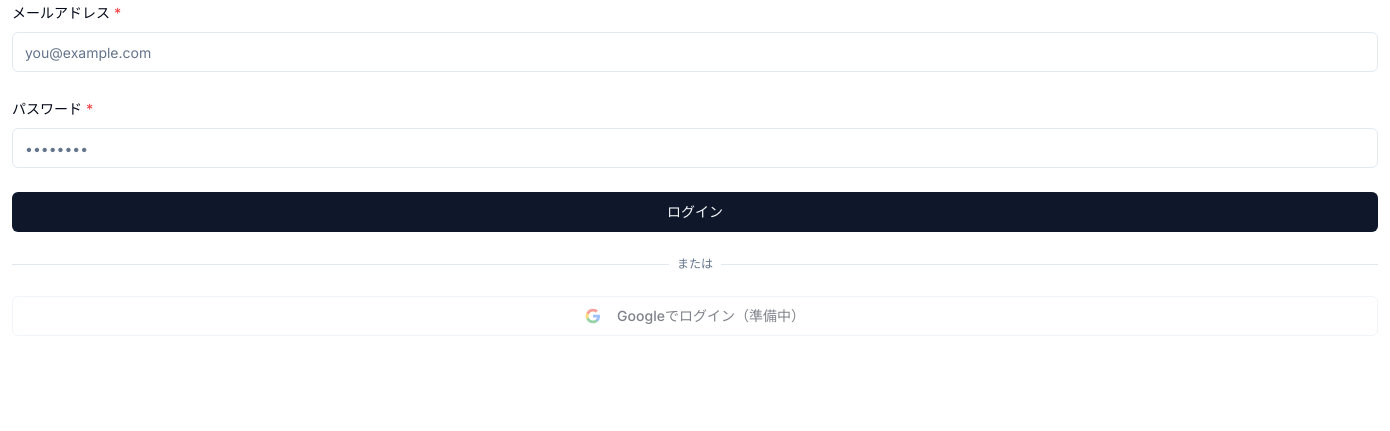
Test: LoginForm › フォーム送信 › ネットワークエラー: ネットワークエラー時に汎用エラーメッセージが表示されること
This screenshot has width=1390, height=431.
Type "test@example.com" into the field labelled "メールアドレス*". click: (695, 52)
box: x1=12 y1=32 x2=1378 y2=72
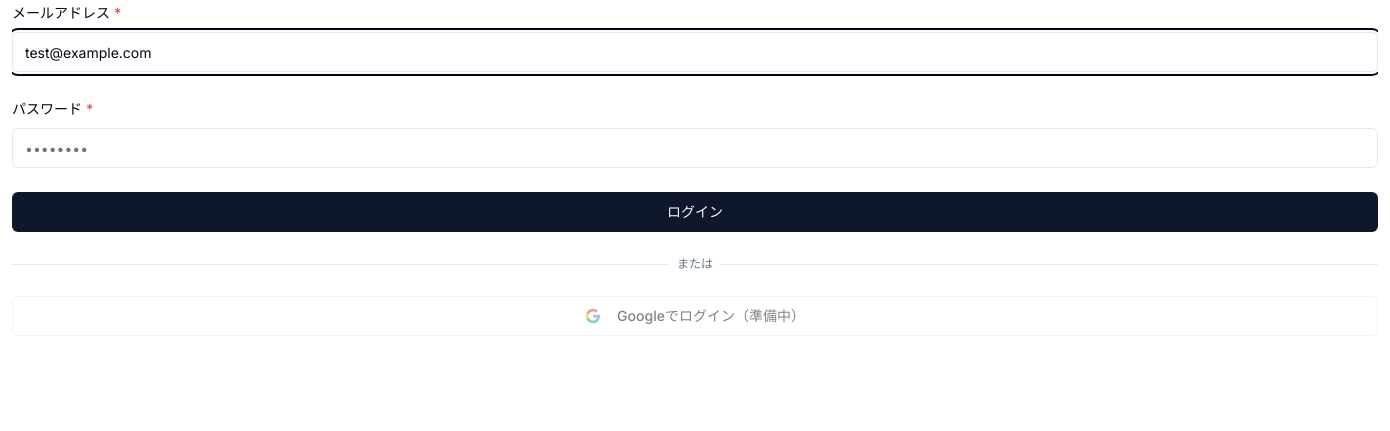
Type "Password123" into the password field labelled "パスワード*". click: (695, 148)
box: x1=12 y1=128 x2=1378 y2=168
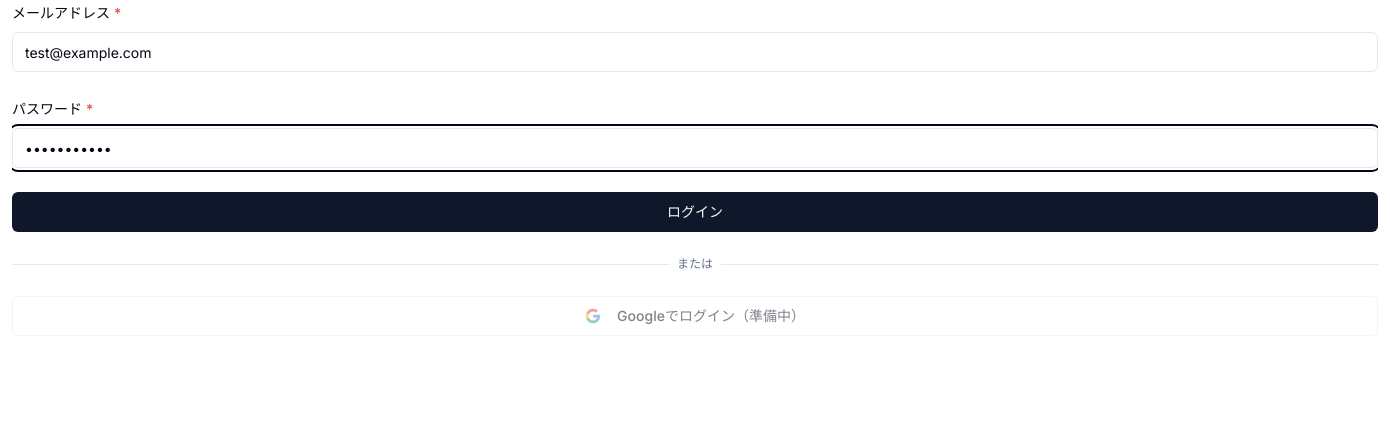
Click the button "ログイン". click: (695, 212)
box: x1=12 y1=192 x2=1378 y2=232
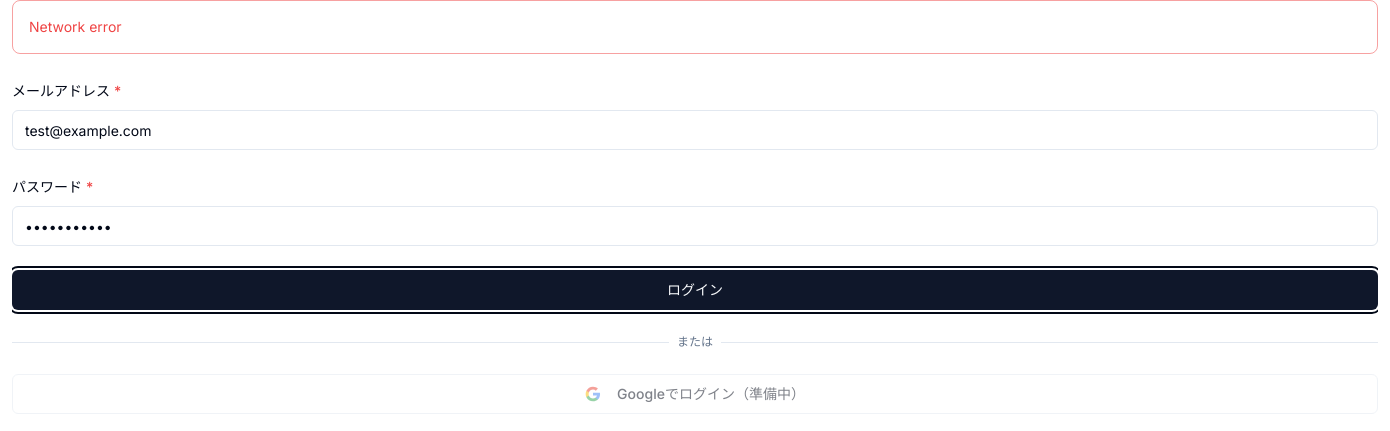
Result: the text "Network error" is shown at x1=29 y1=18 x2=122 y2=35
